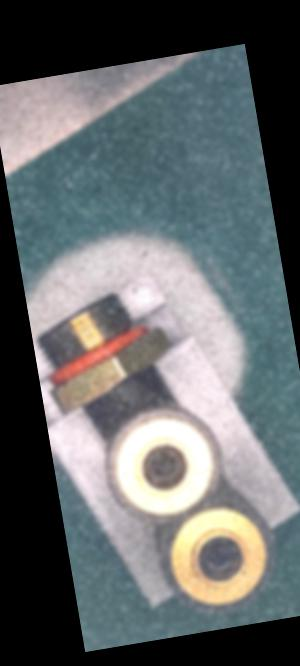craze: (114, 384, 129, 414)
